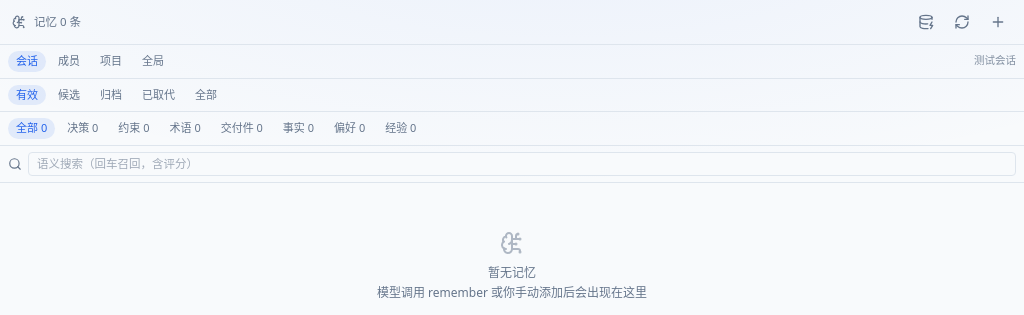
Test: M25.3d：记忆面板 › 语义搜索：休眠 skipped 提示启用路径
The image size is (1024, 315).
Type "任意查询" into the field with placeholder "语义搜索（回车召回，含评分）". click: (522, 164)
box: [28,152,1016,176]
Then press Enter
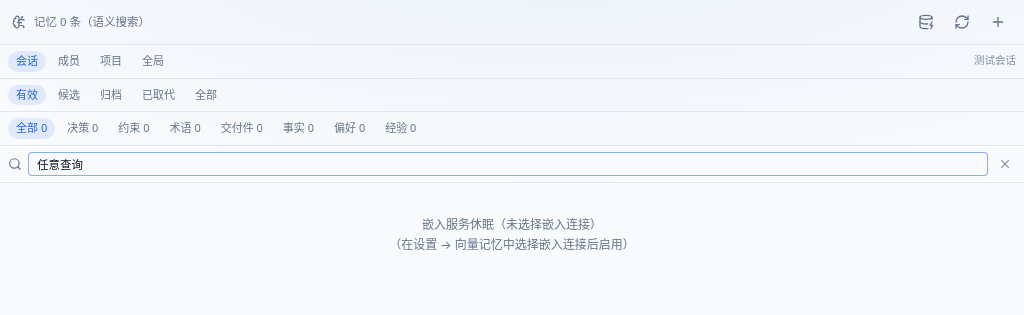
Result: the text "嵌入服务休眠（未选择嵌入连接）（在设置 → 向量记忆中选择嵌入连接后启用）" is shown at [389,216,635,252]
